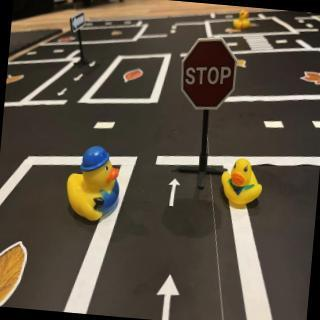duck_regular: (219, 157, 268, 209)
duck_specialty: (63, 143, 125, 226), (233, 11, 253, 32)
road_crosswalk: (240, 32, 280, 57)
road_oneway: (152, 268, 185, 320), (168, 177, 183, 210), (56, 87, 69, 99), (73, 73, 86, 84), (88, 61, 99, 70)
sign_oneway_left: (70, 11, 89, 36)
sign_stop: (180, 36, 240, 113)
